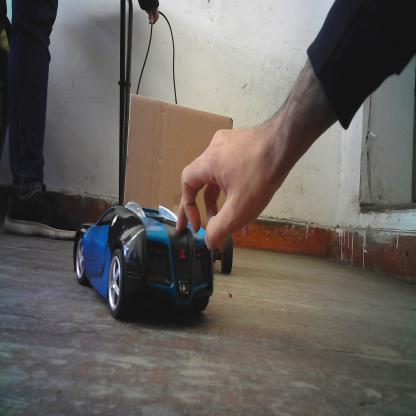LeadTruck: (125, 93, 236, 277)
